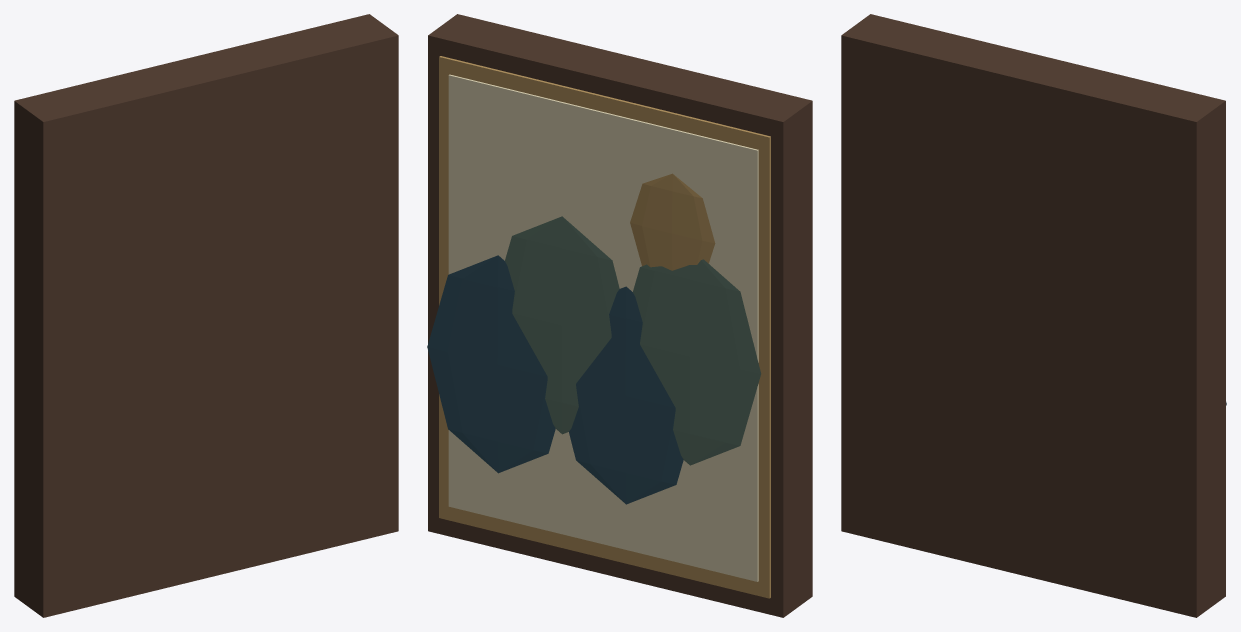
The model's file is LP_Temporary_LeaningFrame.fbx.
3 views of the same model, side by side, from view 1: azimuth 30°, elevation 25°; view 2: azimuth 150°, elevation 25°; view 3: azimuth 330°, elevation 25° (orthographic).
Visible parts, largest first — view 1: Walnut; view 2: WarmIvory, Walnut, M_Museum_DeepBlue, SageUpholstery, AgedBrass; view 3: Walnut.
Boxes of the visible parts, x1,y1,x2,y2 form: Walnut: (14, 14, 398, 617); WarmIvory: (448, 74, 758, 581); Walnut: (428, 14, 812, 617); M_Museum_DeepBlue: (427, 255, 683, 504); SageUpholstery: (505, 216, 761, 465); AgedBrass: (439, 56, 770, 598); Walnut: (841, 14, 1225, 617).
Bounding box in the file's own units: 90 × 120 × 15.
